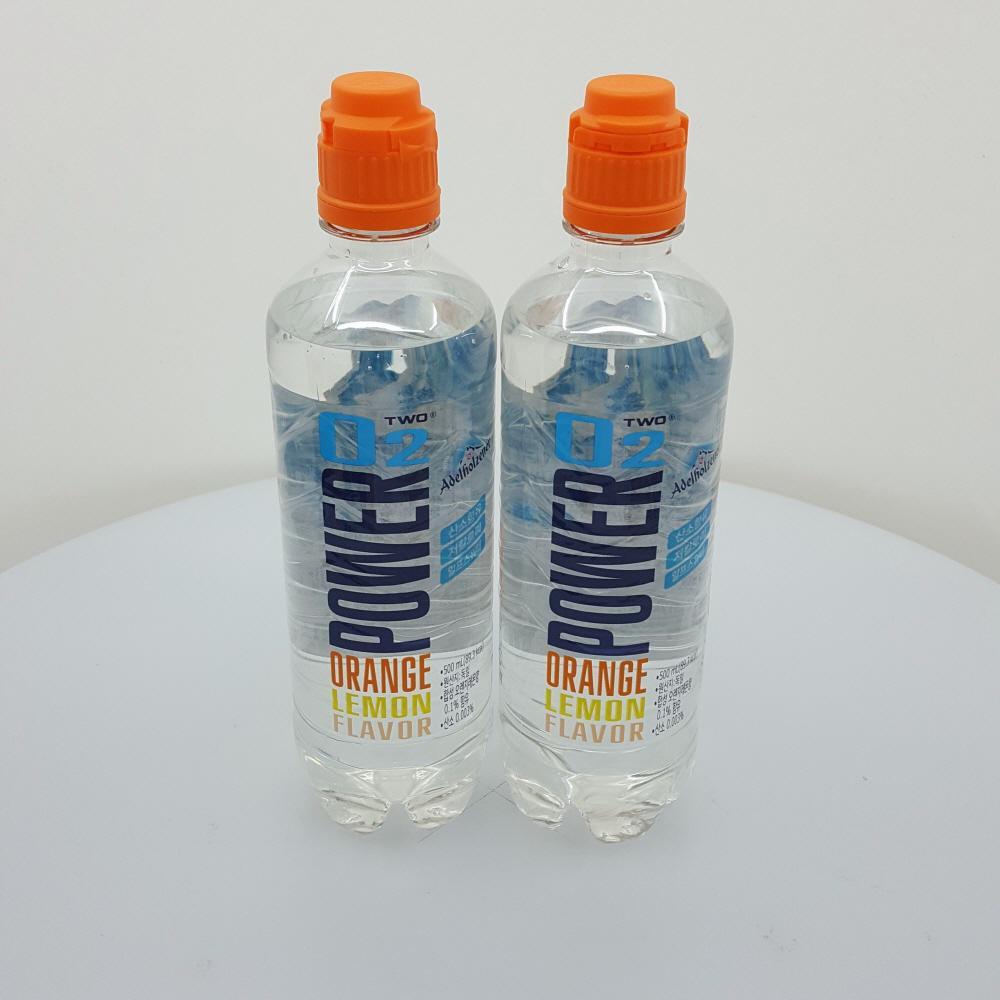powerO2_orange: (258, 51, 510, 853), (495, 69, 726, 856)
